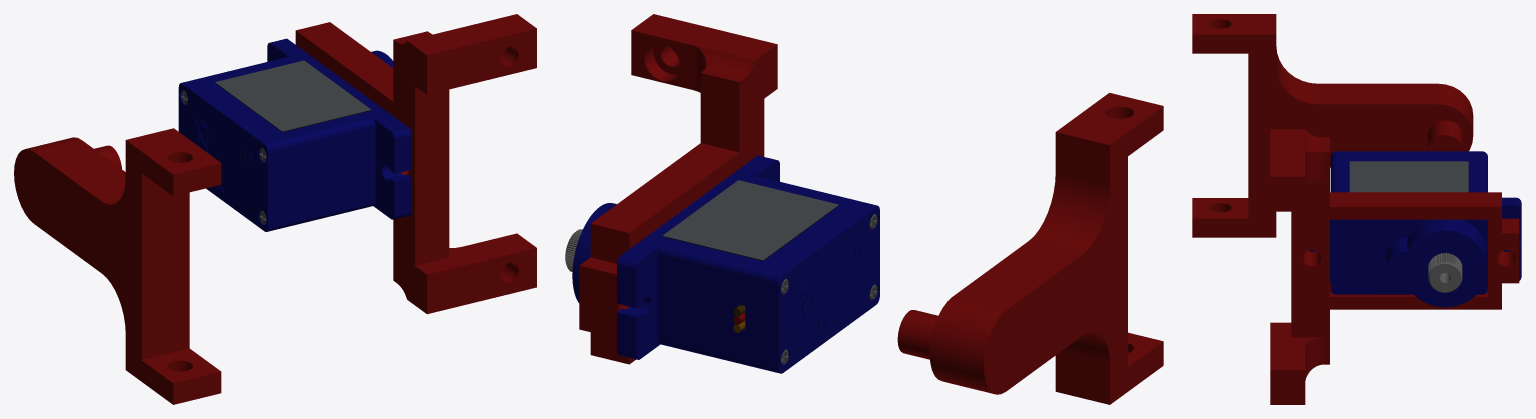
File: zed_mini_servo_up.dae
3 views of the same model, side by side, from view 1: azimuth 30°, elevation 25°; view 2: azimuth 150°, elevation 25°; view 3: azimuth 270°, elevation 25° (orthographic). The views are drawn at different scales.
Parts seen in each view (by area): view 1: Body_1 (×2), Body_12, Body_9, _3DGeom_340, Body_11; view 2: Body_1 (×2), Body_12, Body_9, _3DGeom_340, Body_11; view 3: Body_1 (×2), Body_11, _3DGeom_340, Body_12, Body_7, Body_9.
Part boxes in pixels (left/top/right/bottom): Body_1 (×2): left=14, top=14, right=536, bottom=404; Body_12: left=178, top=74, right=304, bottom=231; Body_9: left=218, top=57, right=375, bottom=222; _3DGeom_340: left=215, top=60, right=371, bottom=131; Body_11: left=267, top=38, right=411, bottom=219; Body_1 (×2): left=579, top=14, right=1163, bottom=404; Body_12: left=737, top=195, right=879, bottom=373; Body_9: left=657, top=176, right=835, bottom=363; _3DGeom_340: left=662, top=180, right=838, bottom=260; Body_11: left=572, top=155, right=779, bottom=359; Body_1 (×2): left=1192, top=14, right=1519, bottom=404; Body_11: left=1309, top=197, right=1521, bottom=307; _3DGeom_340: left=1349, top=161, right=1468, bottom=192; Body_12: left=1330, top=151, right=1487, bottom=170; Body_7: left=1428, top=253, right=1462, bottom=292; Body_9: left=1330, top=167, right=1487, bottom=192.
Size of the model in its own units: 0.0594 by 0.0471 by 0.036.
